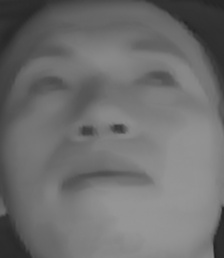eye: (129, 62, 182, 95), (23, 72, 78, 101)
mouth: (57, 156, 156, 199)
